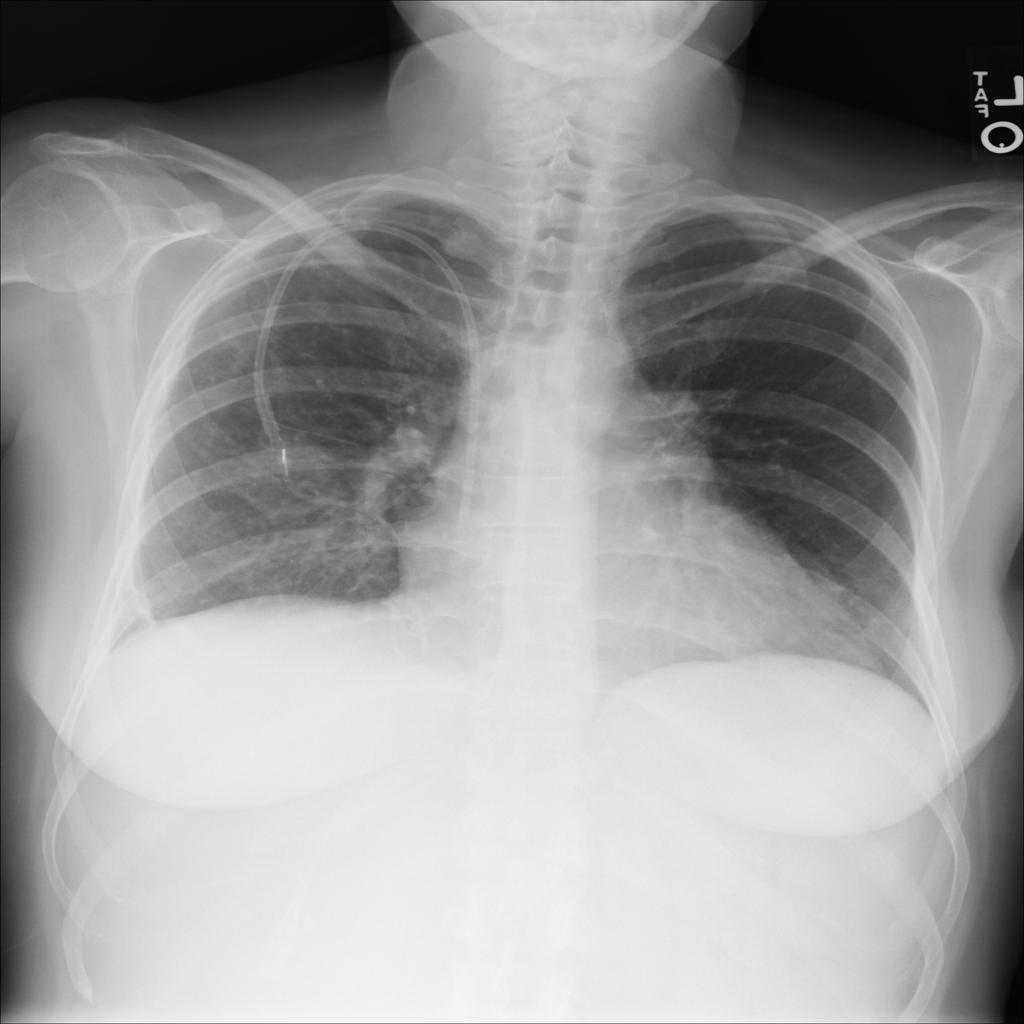Cardiomegaly: (363, 379, 910, 751)
